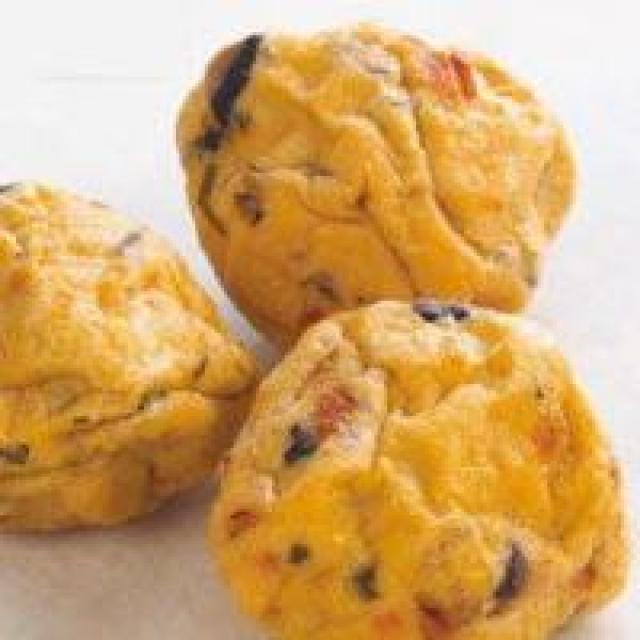熟制海鲜: (0, 3, 640, 640)
